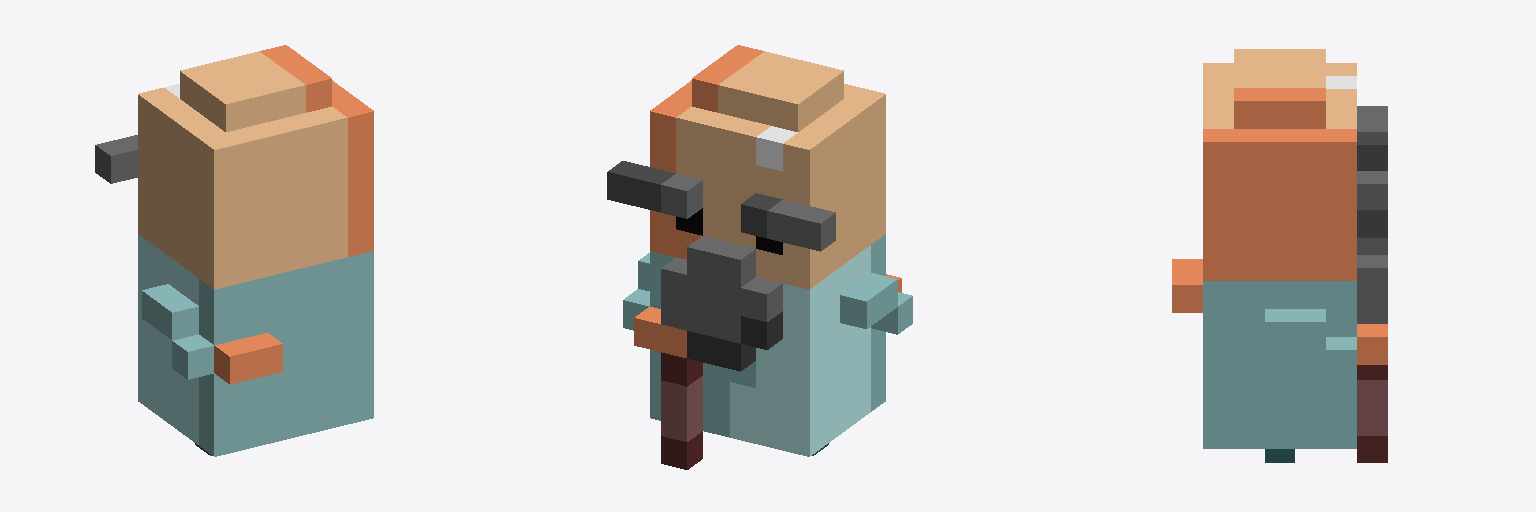
3 views of the same model, side by side, from view 1: azimuth 30°, elevation 25°; view 2: azimuth 150°, elevation 25°; view 3: azimuth 270°, elevation 25° (orthographic).
Visible parts, largest first — view 1: Model; view 2: Model; view 3: Model.
Boxes of the visible parts, x1=… form: Model: x1=95, y1=45, x2=373, y2=456; Model: x1=607, y1=45, x2=912, y2=469; Model: x1=1172, y1=49, x2=1387, y2=462.
Size of the model in its own units: 0.8 by 1.3 by 0.7.
Materials: 1 (1 with a texture image).